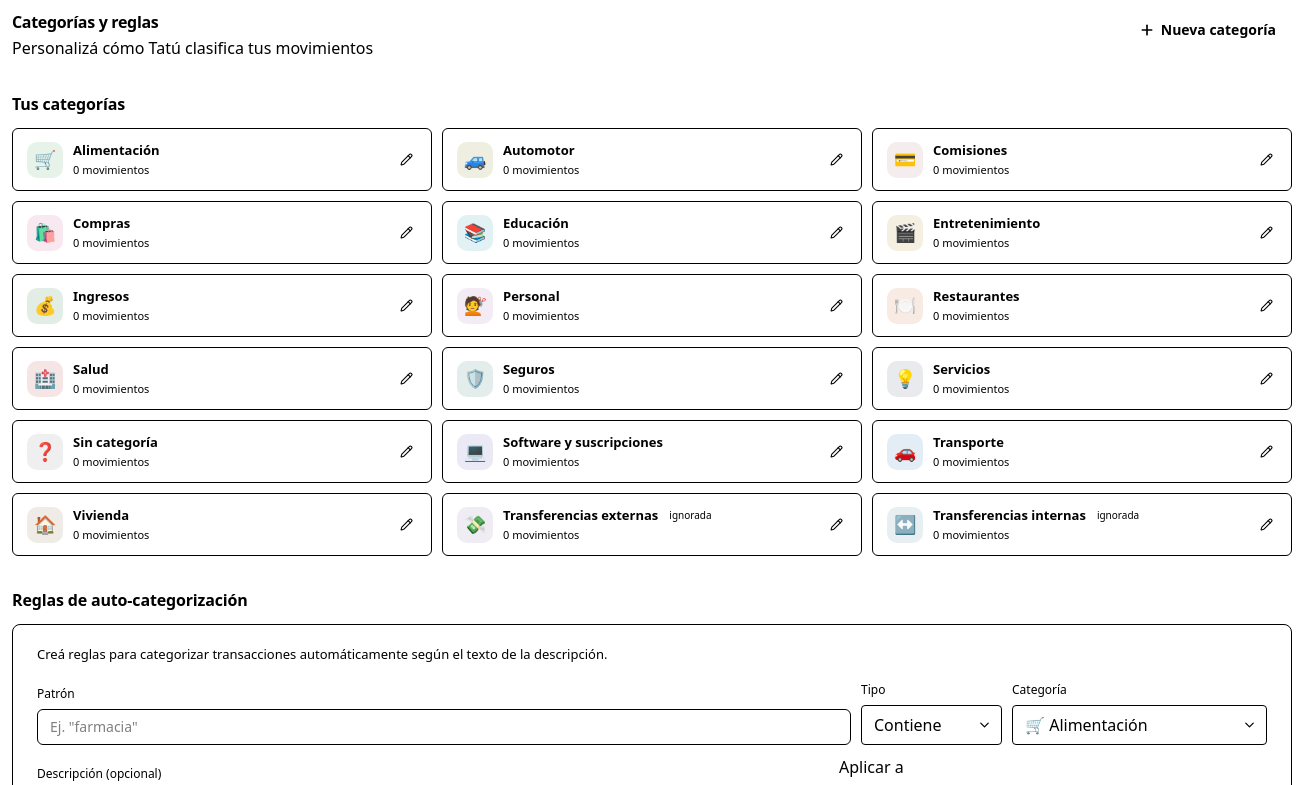
Test case: Categories › titles the grid, the rules and the category form as level-2 sections
This screenshot has width=1304, height=785.
Expected: the heading "Tus categorías" is shown, 12,92 -> 125,116
Expected: the element "Tus categorías" is shown, 12,92 -> 1292,556
Click the button "Nueva categoría".
click(1207, 30)  # box 1123,12 -> 1292,48
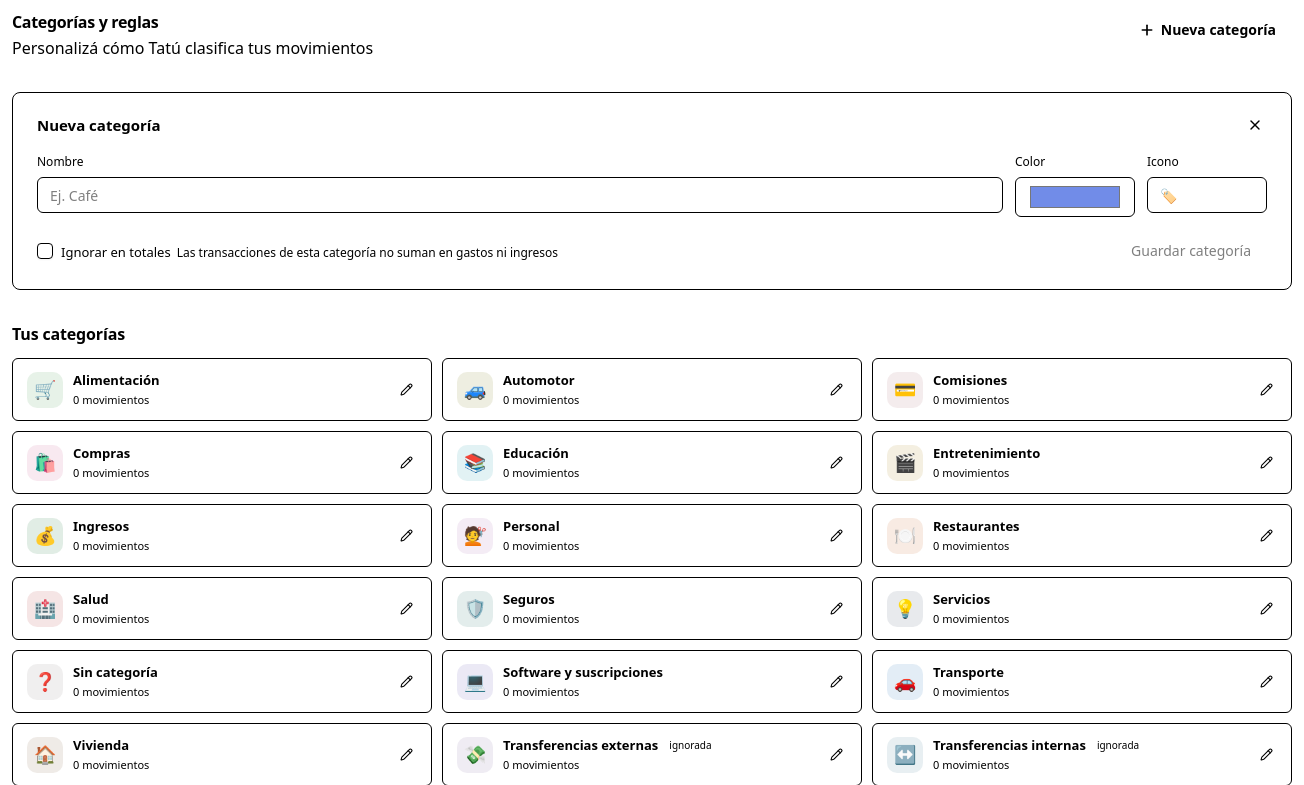
Now the heading "Nueva categoría" is shown, box 37,114 -> 160,136
